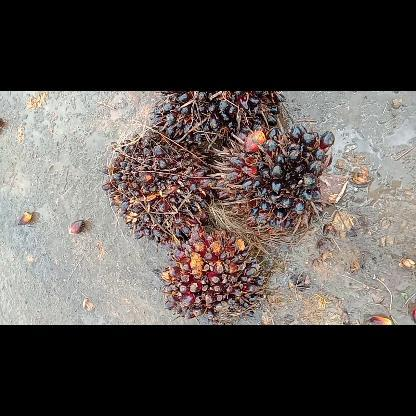TBS abnormal: (214, 118, 352, 240), (146, 90, 286, 166)
TBS masak: (98, 128, 214, 250), (159, 223, 268, 324)
